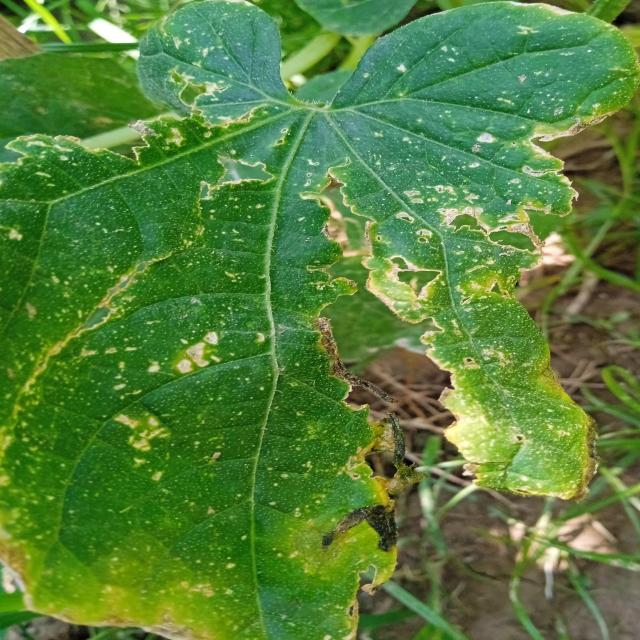cucumber_anthracnose: (16, 18, 628, 610)
